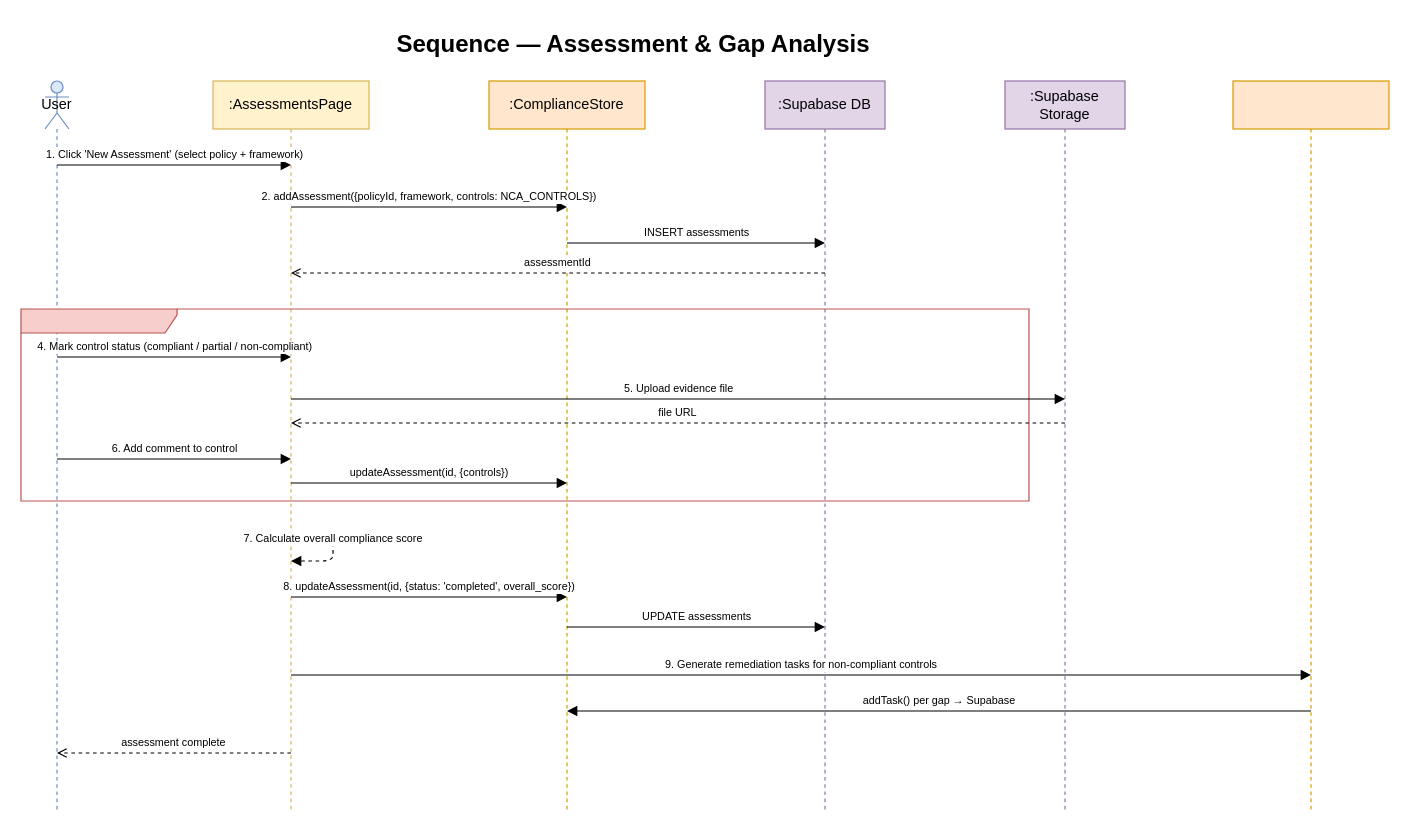
The diagram is 1410 pixels wide and 834 high, and some of its shapes have lost their labels. The shapes that lost their labels are listed below. From the top down, each one's box as (x1, y1, x2, y2) in pixels, then its label:
(20, 308, 1029, 501): loop [for each control]
(1232, 80, 1389, 813): :RemediationPage
